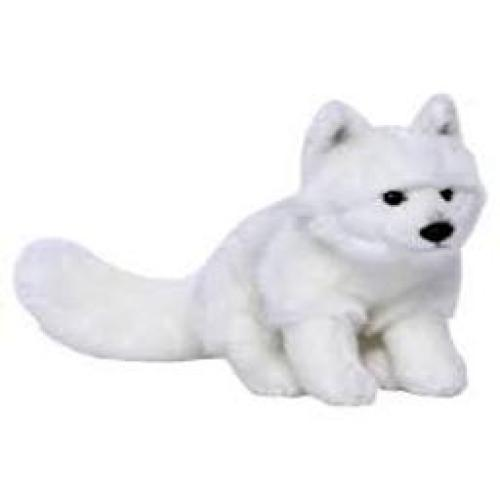arctic_fox-endangered: (11, 88, 488, 408)
